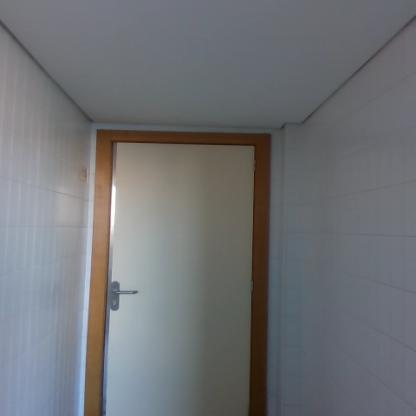door: (109, 143, 253, 415)
hinged: (252, 158, 257, 172), (249, 279, 254, 292)
lever: (113, 286, 141, 296)
